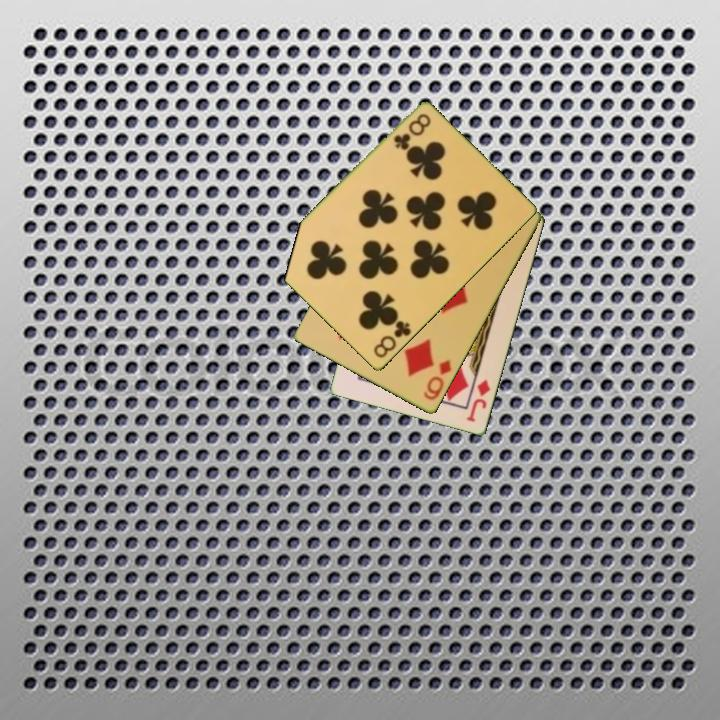6d: (420, 357, 455, 404)
8c: (370, 317, 414, 362), (390, 110, 434, 153)
Jd: (463, 376, 493, 425)
